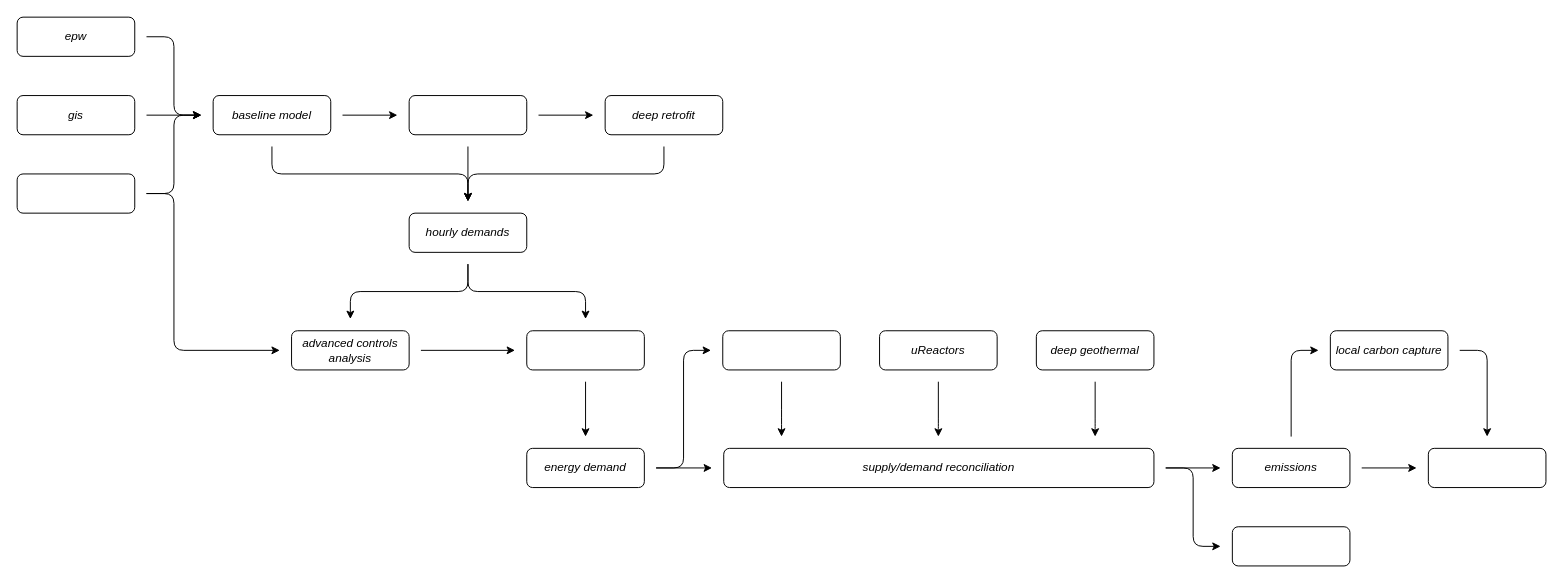
Image size: 1563x583. Some labels were removed from this diagram. The box of each missing label's shape, as (x1, y1, x2, y2) in pixels:
base templates: (16, 173, 135, 213)
cost avoidance: (1427, 447, 1546, 488)
district system analysis: (526, 330, 644, 370)
eenrgy storage: (1231, 526, 1350, 566)
grid decarb analysis & arbitrage: (722, 330, 840, 370)
shallow retrofit: (408, 95, 527, 135)
